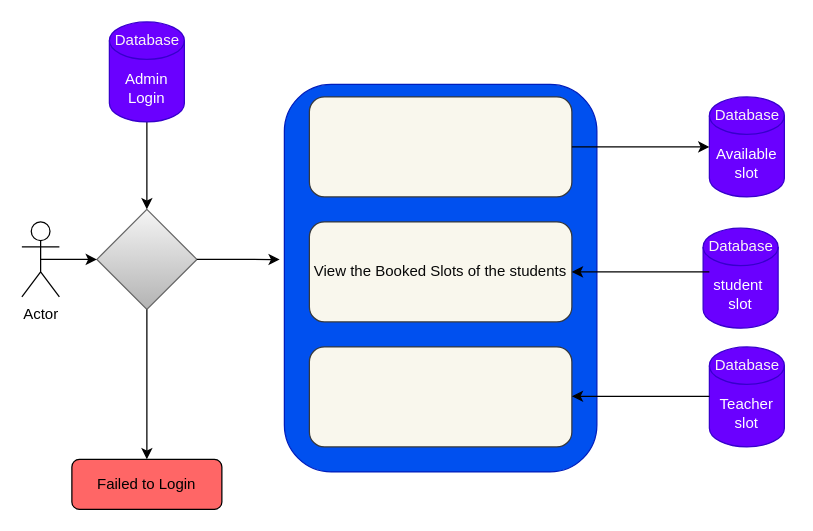
The diagram is 813 pixels wide and 531 high, and some of its shapes have lost their labels. The shapes that lost their labels are listed below. From the top down, each one's centre as x and y in pixels, then its label:
(440,146): Enable the available slots
(146,258): login success
(440,396): View the Booked Slots of the Teachers
